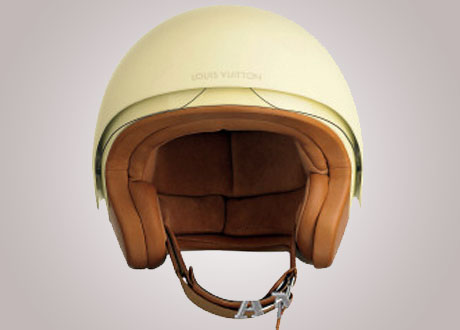helmet: (82, 13, 374, 268)
